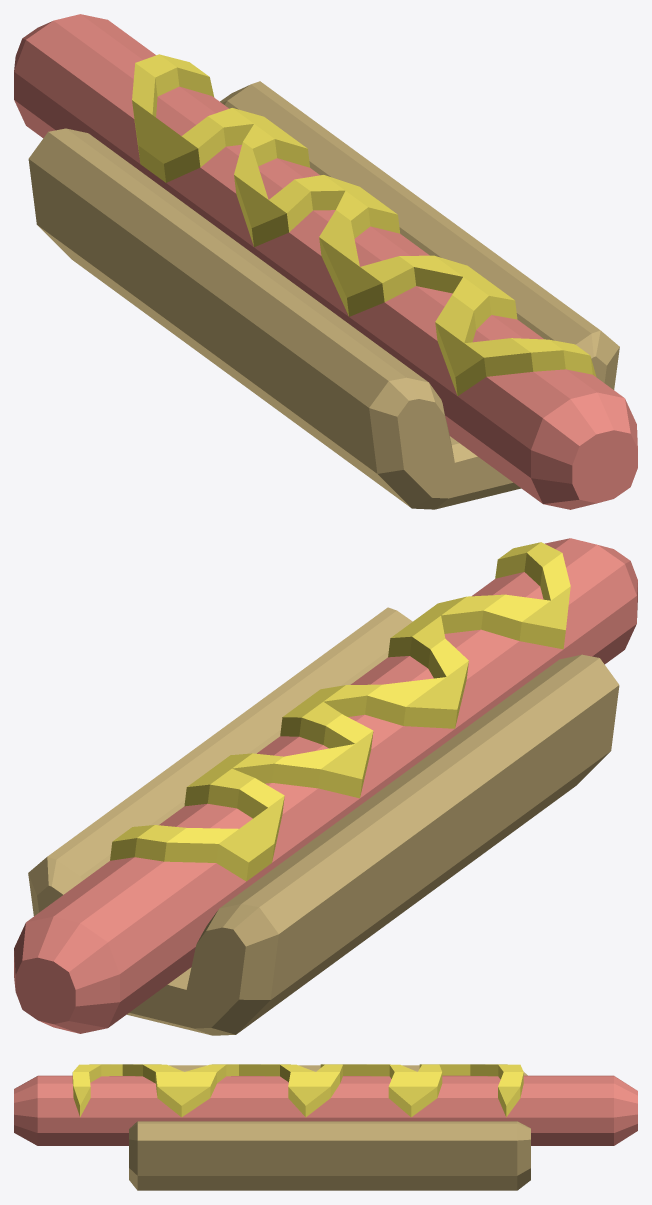
The model's file is Korv.fbx.
3 views of the same model, one above another, from view 1: azimuth 30°, elevation 25°; view 2: azimuth 150°, elevation 25°; view 3: azimuth 270°, elevation 25° (orthographic). The views are drawn at different scales.
Visible parts, largest first — view 1: Brödet, Korven, Senap eller ketchup lol; view 2: Brödet, Korven, Senap eller ketchup lol; view 3: Brödet, Korven, Senap eller ketchup lol.
Boxes of the visible parts, left/top/right/bottom form: Brödet: left=28, top=81, right=619, bottom=509; Korven: left=14, top=14, right=637, bottom=509; Senap eller ketchup lol: left=132, top=54, right=596, bottom=395; Brödet: left=28, top=607, right=619, bottom=1035; Korven: left=14, top=538, right=637, bottom=1033; Senap eller ketchup lol: left=110, top=542, right=570, bottom=881; Brödet: left=129, top=1065, right=530, bottom=1190; Korven: left=14, top=1075, right=637, bottom=1145; Senap eller ketchup lol: left=72, top=1064, right=523, bottom=1117.
Size of the model in its own units: 14.9 by 10.48 by 57.55.
